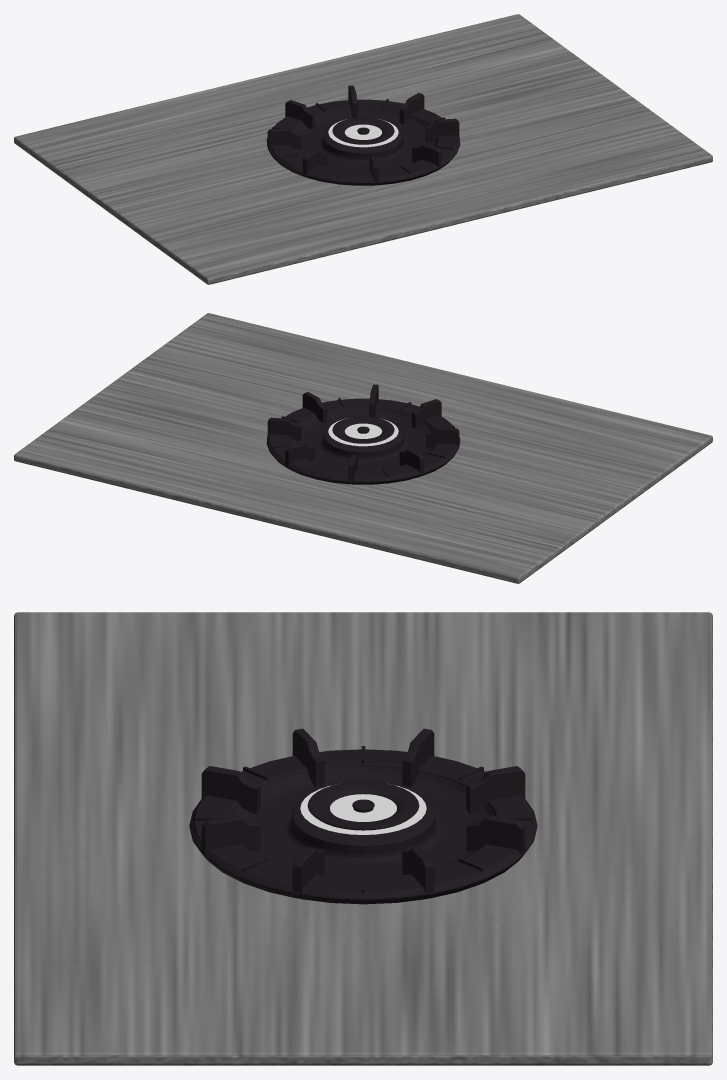
3 renders of one model, top to bottom at view 1: azimuth 30°, elevation 25°; view 2: azimuth 150°, elevation 25°; view 3: azimuth 270°, elevation 25°, orthographic. The views are drawn at different scales.
Visible parts, largest first — view 1: Plane, Support, Emitter; view 2: Plane, Support, Emitter; view 3: Plane, Support, Emitter.
Part boxes in pixels (x1,y1,x2,y2): Plane: (14, 14, 712, 284); Support: (266, 85, 460, 185); Emitter: (328, 119, 398, 147); Plane: (14, 313, 712, 583); Support: (266, 384, 460, 484); Emitter: (328, 418, 398, 446); Plane: (14, 612, 712, 1065); Support: (189, 728, 537, 904); Emitter: (300, 785, 426, 834).
Bounding box in the file's own units: 300 × 16.02 × 200.
